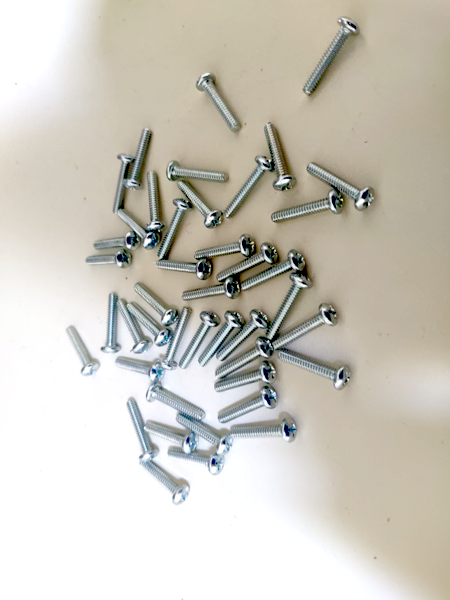longscrew: (303, 20, 355, 99), (306, 159, 378, 212), (274, 306, 337, 353), (225, 156, 272, 219), (273, 191, 344, 231), (243, 254, 309, 297), (195, 73, 242, 132), (196, 312, 245, 368), (267, 275, 310, 337), (281, 350, 351, 388), (217, 312, 267, 365), (178, 307, 220, 369), (215, 248, 277, 286), (215, 338, 271, 380), (136, 461, 190, 502), (160, 304, 193, 369), (266, 120, 296, 191), (175, 415, 230, 453), (220, 390, 276, 427), (152, 203, 188, 260), (126, 400, 159, 461), (179, 184, 223, 229), (124, 128, 154, 193), (149, 387, 206, 421), (126, 302, 170, 346), (116, 296, 149, 354), (232, 417, 297, 446), (163, 448, 232, 474), (120, 204, 158, 251), (136, 281, 176, 325), (145, 418, 195, 453), (181, 279, 242, 306), (194, 236, 256, 262), (62, 330, 97, 374), (108, 154, 134, 213), (214, 367, 277, 391), (169, 163, 229, 184), (99, 292, 119, 353), (146, 168, 164, 231), (93, 232, 139, 256), (86, 250, 132, 272), (115, 361, 163, 378), (156, 260, 212, 274)
